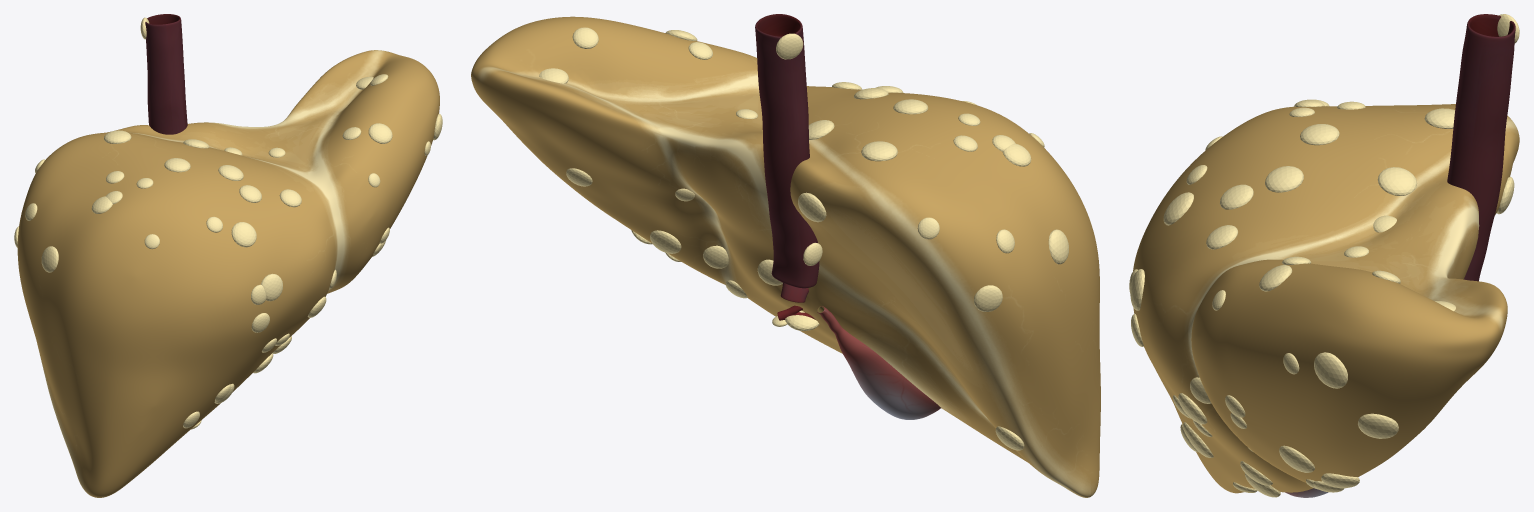
The model's file is liver-fatty.glb.
3 views of the same model, side by side, from view 1: azimuth 30°, elevation 25°; view 2: azimuth 150°, elevation 25°; view 3: azimuth 270°, elevation 25° (orthographic). The views are drawn at different scales.
Parts seen in each view (by area): view 1: liver.001_Material.011_0, liver-fatty-add_0, inferior vena cava.001_Material.012_0; view 2: liver.001_Material.011_0, liver-fatty-add_0, inferior vena cava.001_Material.012_0, gallbladder.002_Material.013_0; view 3: liver.001_Material.011_0, liver-fatty-add_0, inferior vena cava.001_Material.012_0.
Boxes of the visible parts, x1=… form: liver.001_Material.011_0: x1=17, y1=50, x2=439, y2=497; liver-fatty-add_0: x1=14, y1=17, x2=442, y2=429; inferior vena cava.001_Material.012_0: x1=145, y1=14, x2=187, y2=134; liver.001_Material.011_0: x1=471, y1=16, x2=1100, y2=497; liver-fatty-add_0: x1=539, y1=27, x2=1068, y2=450; inferior vena cava.001_Material.012_0: x1=755, y1=14, x2=819, y2=288; gallbladder.002_Material.013_0: x1=817, y1=306, x2=940, y2=419; liver.001_Material.011_0: x1=1133, y1=104, x2=1519, y2=493; liver-fatty-add_0: x1=1129, y1=14, x2=1519, y2=497; inferior vena cava.001_Material.012_0: x1=1447, y1=14, x2=1515, y2=281.
Bounding box in the file's own units: 0.212 × 0.1872 × 0.1156.
6 materials, 5 textured.
